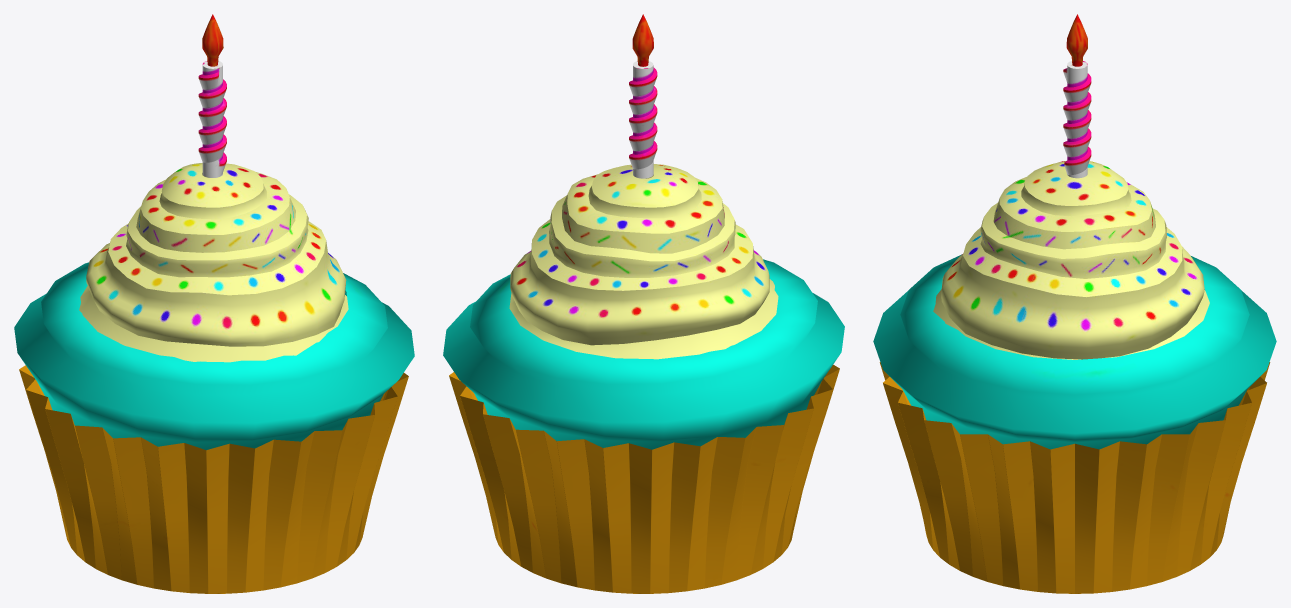
File: Cup Cake.fbx
3 renders of one model, left to right at view 1: azimuth 30°, elevation 25°; view 2: azimuth 150°, elevation 25°; view 3: azimuth 270°, elevation 25°, orthographic.
Visible parts, largest first — view 1: Cupcakeneedssameamt:cake_low_Cupcakeneedssameamt:cake_low_10; view 2: Cupcakeneedssameamt:cake_low_Cupcakeneedssameamt:cake_low_10; view 3: Cupcakeneedssameamt:cake_low_Cupcakeneedssameamt:cake_low_10.
Boxes of the visible parts, box(x1,y1,x2,y2) form: Cupcakeneedssameamt:cake_low_Cupcakeneedssameamt:cake_low_10: box(14, 14, 414, 593); Cupcakeneedssameamt:cake_low_Cupcakeneedssameamt:cake_low_10: box(443, 14, 844, 593); Cupcakeneedssameamt:cake_low_Cupcakeneedssameamt:cake_low_10: box(873, 14, 1276, 593).
Size of the model in its own units: 11.53 by 16.33 by 11.54.
Materials: 1 (1 with a texture image).
